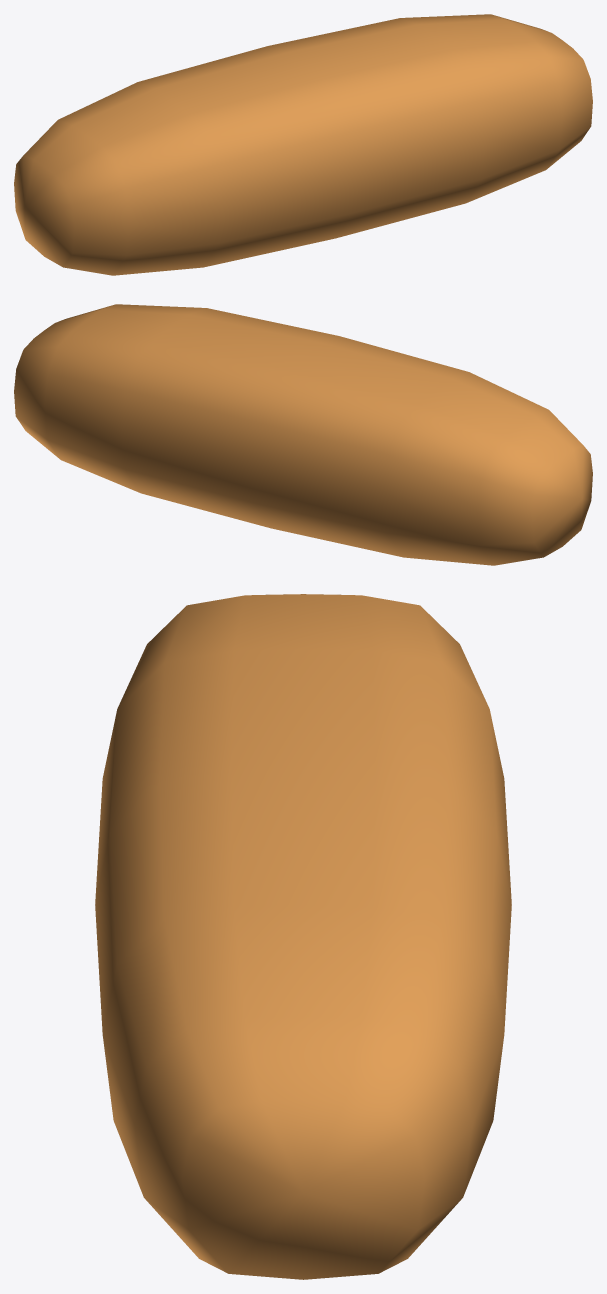
File: pan_pancho_cerrado.glb
The picture shows the model from 3 angles, top to bottom: view 1: azimuth 30°, elevation 25°; view 2: azimuth 150°, elevation 25°; view 3: azimuth 270°, elevation 25°; orthographic projection. The views are drawn at different scales.
Parts seen in each view (by area): view 1: pan_pancho_cerrado; view 2: pan_pancho_cerrado; view 3: pan_pancho_cerrado.
Part boxes in pixels (<box>): pan_pancho_cerrado: <box>14,14,592,275</box>; pan_pancho_cerrado: <box>14,304,592,565</box>; pan_pancho_cerrado: <box>95,594,511,1279</box>.
Size of the model in its own units: 0.17 by 0.045 by 0.055.
